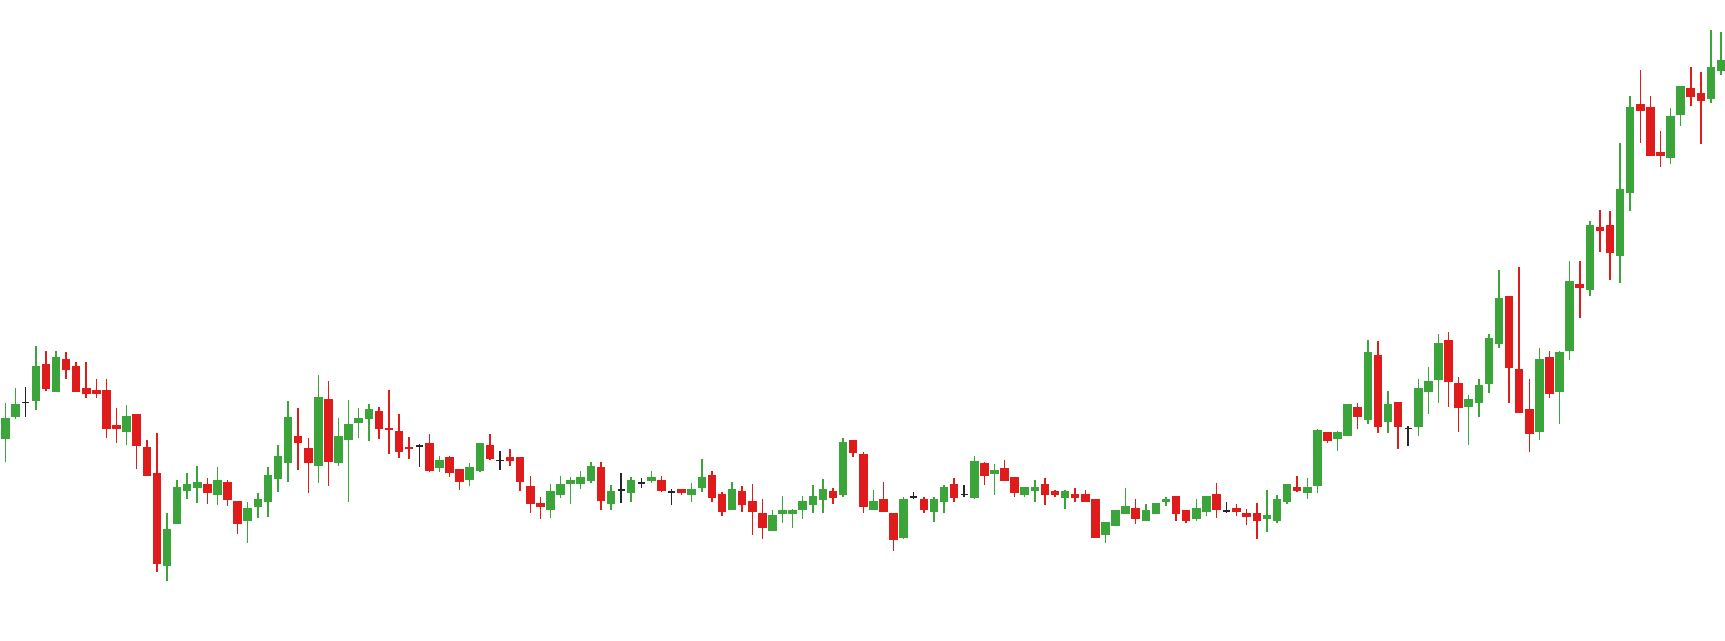buy: (1455, 350, 1545, 452)
